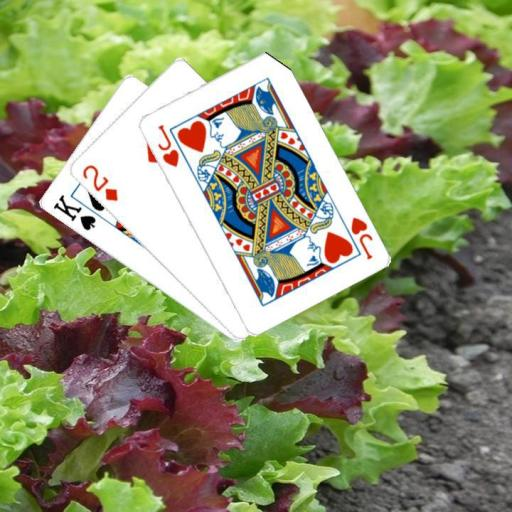2D: (79, 162, 119, 203)
JH: (347, 213, 374, 261), (154, 121, 180, 168)
KS: (49, 192, 97, 233)
